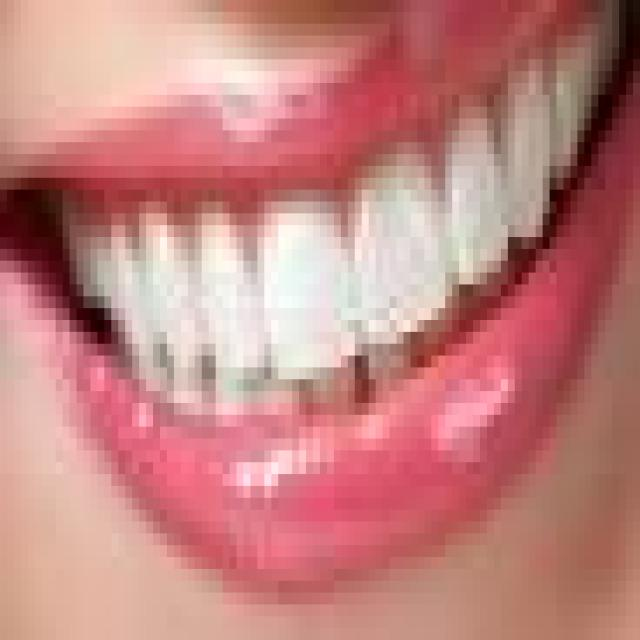tooth: (355, 178, 445, 344), (264, 202, 341, 391), (195, 225, 250, 368), (501, 59, 542, 249), (452, 95, 487, 308), (146, 178, 188, 344), (556, 24, 592, 178), (104, 225, 132, 344), (605, 12, 633, 118), (62, 202, 90, 308)
